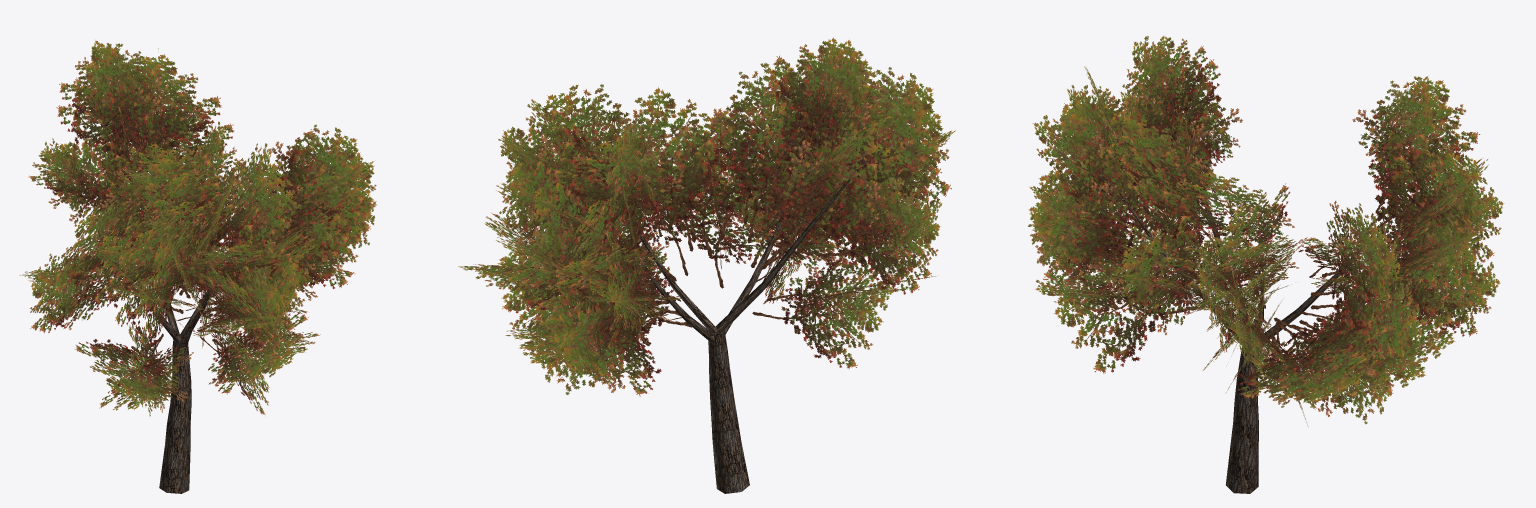
The model's file is maple03_lod1.glb.
The picture shows the model from 3 angles, left to right: view 1: azimuth 30°, elevation 25°; view 2: azimuth 150°, elevation 25°; view 3: azimuth 270°, elevation 25°; orthographic projection. The views are drawn at different scales.
Visible parts, largest first — view 1: maple03_lod1; view 2: maple03_lod1; view 3: maple03_lod1.
Part boxes in pixels (x1=…): maple03_lod1: x1=19, y1=40, x2=376, y2=493; maple03_lod1: x1=458, y1=37, x2=955, y2=493; maple03_lod1: x1=1028, y1=35, x2=1504, y2=493.
Bounding box in the file's own units: 17.26 × 16.68 × 17.54.
Materials: 2 (2 with a texture image).
